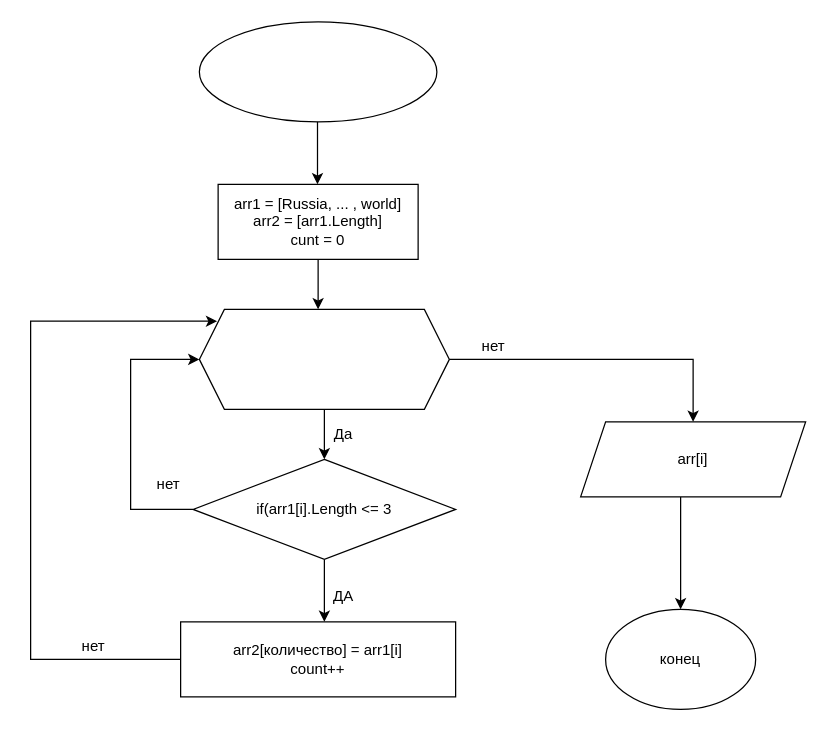
The diagram is 828 pixels wide and 731 high, and some of its shapes have lost their labels. Each missing label, with the centre of its shape:
"i = 0; i < arr1.Length; i++" goes at pixel 323 358.
"НАЧАЛО" goes at pixel 317 71.
